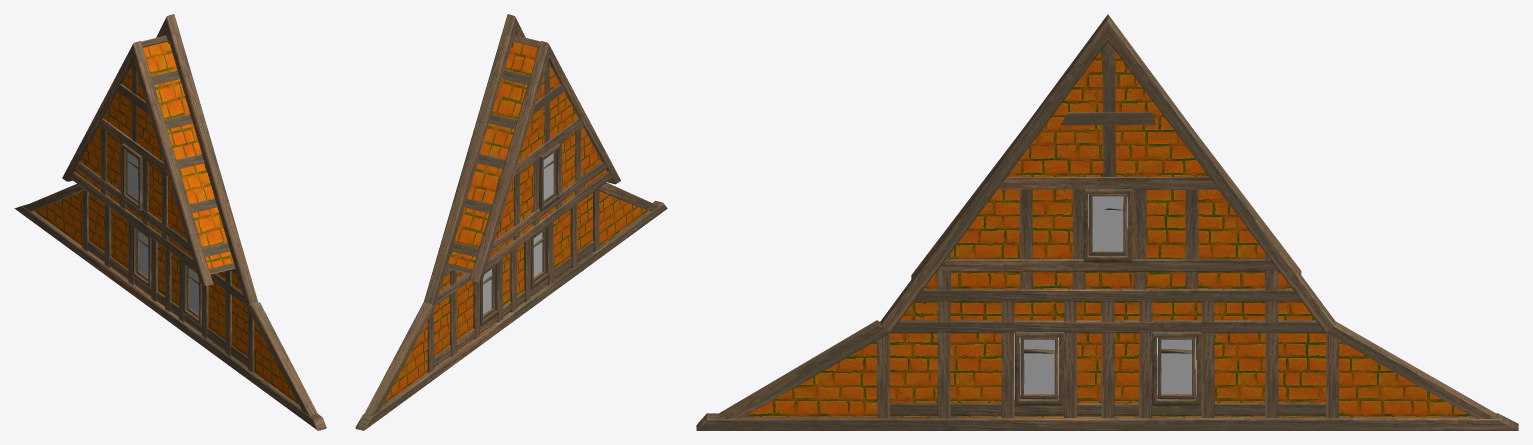
Rendered from SM_wall_roof_03.fbx.
3 views of the same model, side by side, from view 1: azimuth 30°, elevation 25°; view 2: azimuth 150°, elevation 25°; view 3: azimuth 270°, elevation 25° (orthographic). The views are drawn at different scales.
Visible parts, largest first — view 1: SM_wall_roof_03_LOD0; view 2: SM_wall_roof_03_LOD0; view 3: SM_wall_roof_03_LOD0.
Boxes of the visible parts, x1,y1,x2,y2 form: SM_wall_roof_03_LOD0: (14, 14, 326, 430); SM_wall_roof_03_LOD0: (355, 14, 667, 430); SM_wall_roof_03_LOD0: (696, 14, 1518, 430).
Size of the model in its own units: 102 by 1198 by 663.
